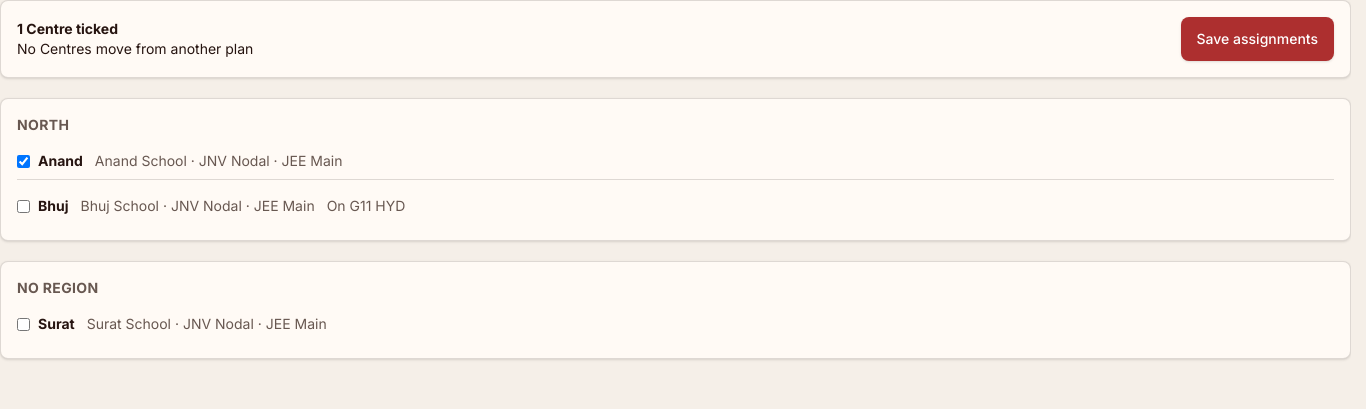
CurriculumPlanAssignForm › shows the save error
Click the button "Save assignments" at (1257,39), box left=1181, top=17, right=1334, bottom=61
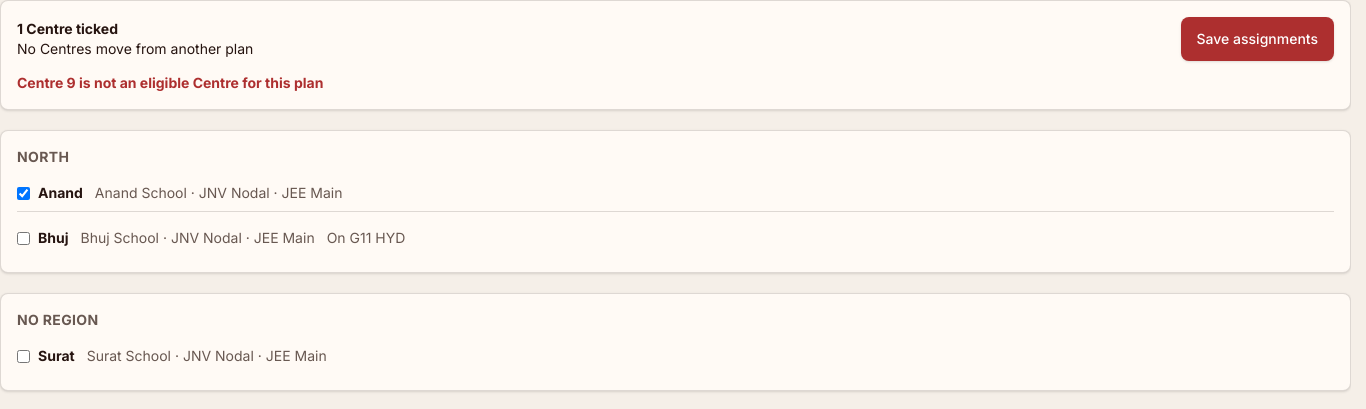
Expected: the text with test id "assign-error" reads "Centre 9 is not an eligible Centre for this plan", left=17, top=74, right=323, bottom=91
